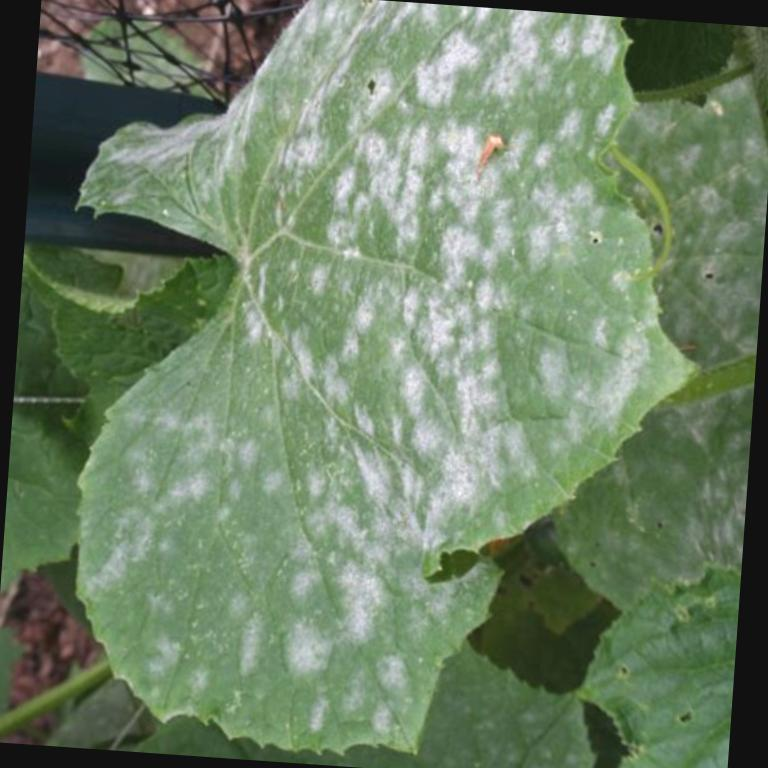powdery-mildew: (308, 15, 578, 334), (223, 384, 459, 662)
